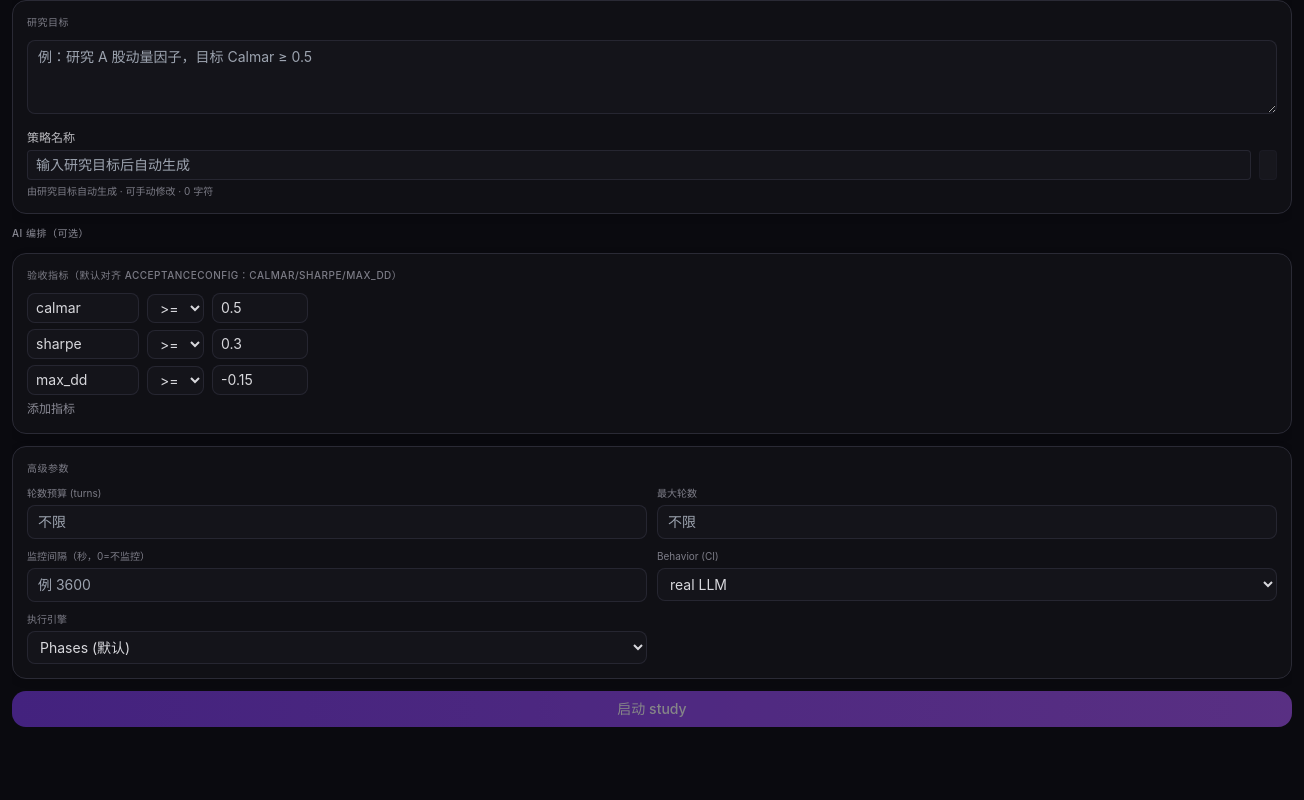
StudyCreateForm › blocks submit without sessionId / objective / strategy name
Type "x" into the text box with placeholder "例：研究 A 股动量因子，目标 Calmar ≥ 0.5". click: (652, 77)
box: [27,40,1277,114]
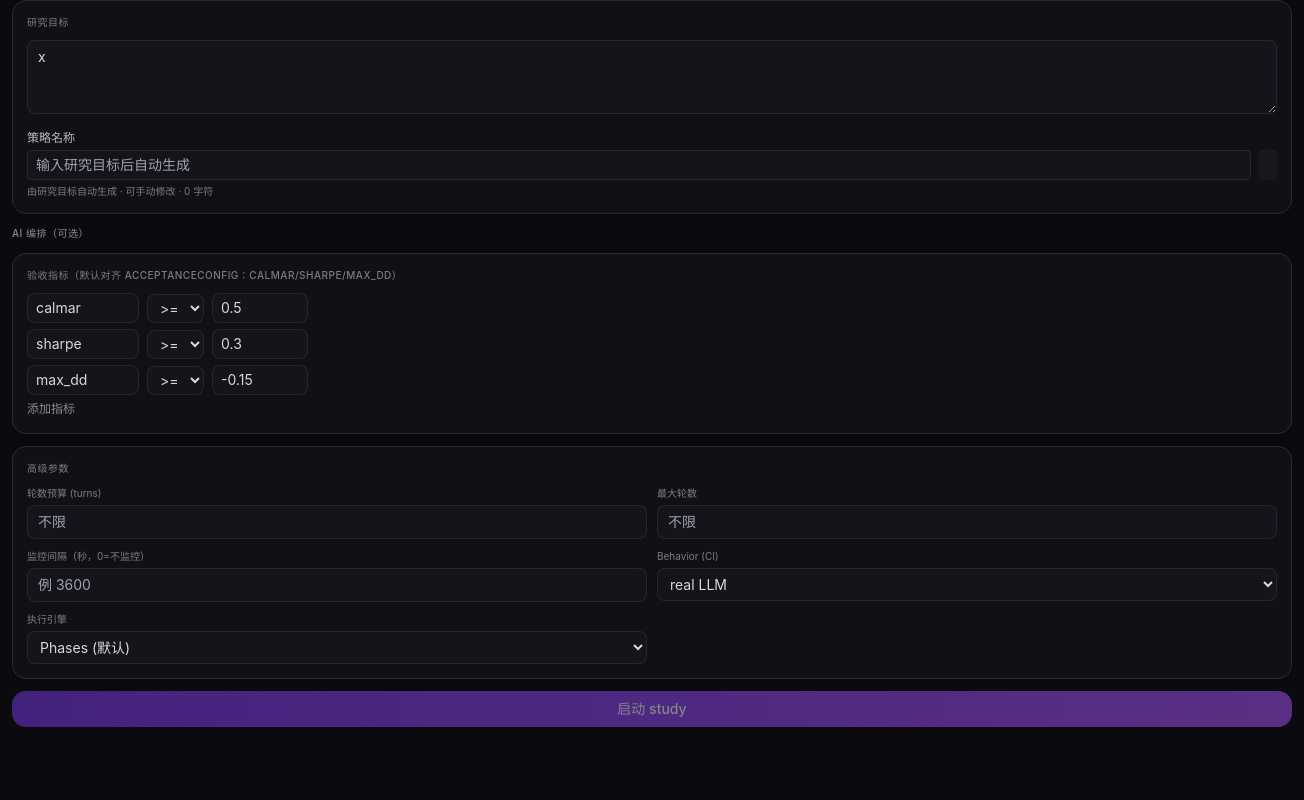
Submit the form named "启动 study"
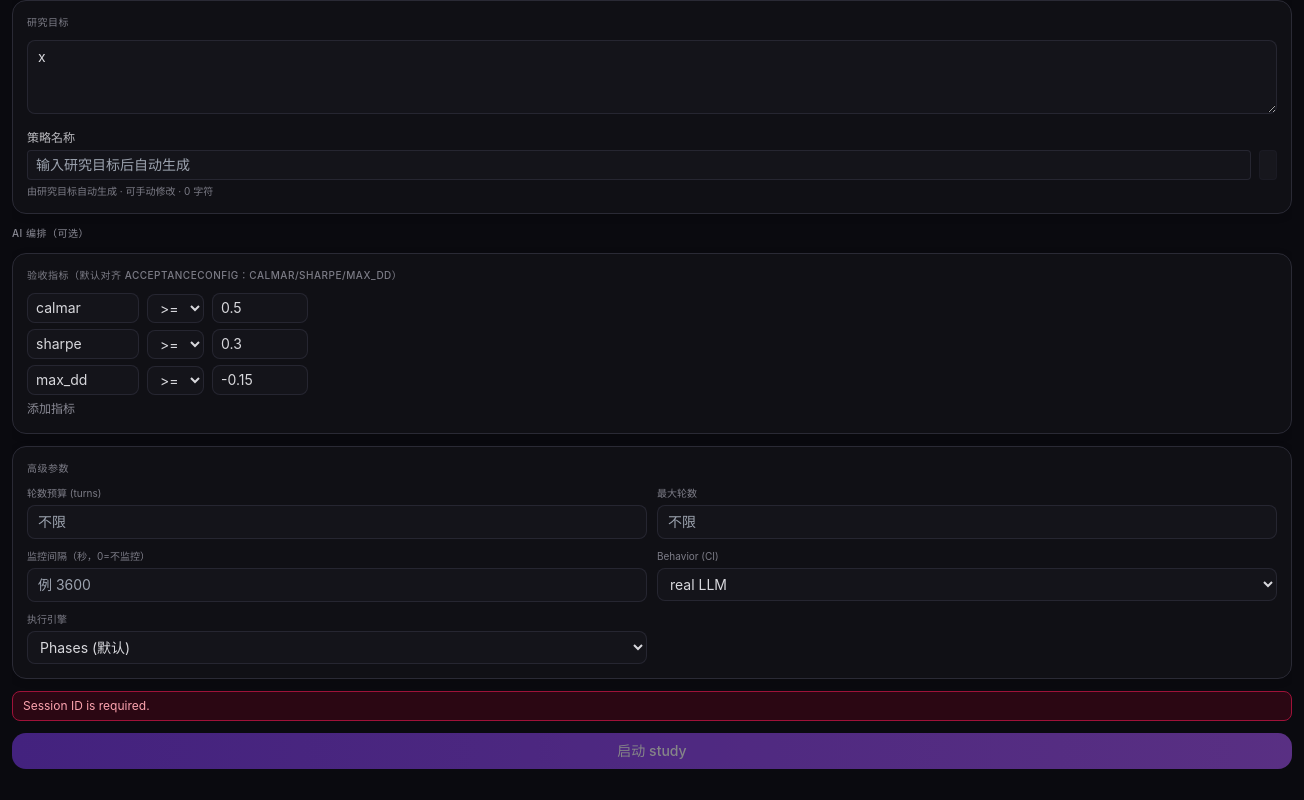
expect the text "Session ID is required." is shown: met, box [12,691,1292,721]
